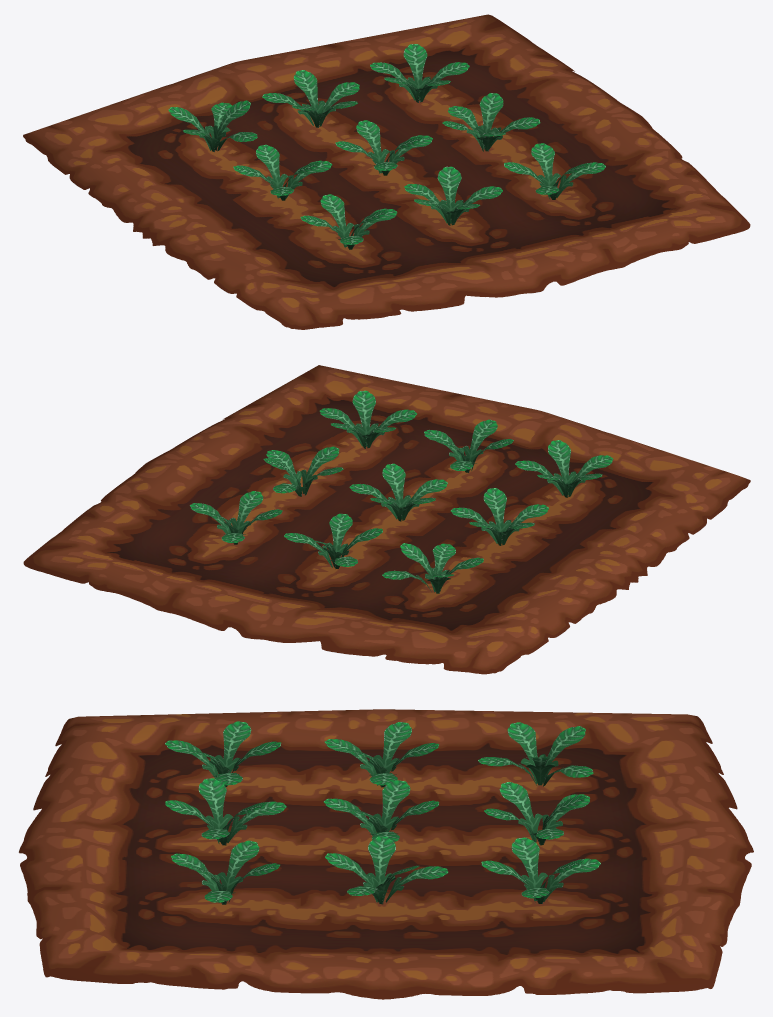
The model's file is Brocolli_Field_Lv1.FBX.
The picture shows the model from 3 angles, top to bottom: view 1: azimuth 30°, elevation 25°; view 2: azimuth 150°, elevation 25°; view 3: azimuth 270°, elevation 25°; orthographic projection. The views are drawn at different scales.
Parts seen in each view (by area): view 1: Brocolli_Field_Lv1; view 2: Brocolli_Field_Lv1; view 3: Brocolli_Field_Lv1.
Part boxes in pixels (box(x1,y1,x2,y2)): Brocolli_Field_Lv1: box(23, 14, 750, 329); Brocolli_Field_Lv1: box(23, 365, 750, 674); Brocolli_Field_Lv1: box(18, 709, 753, 999).
Size of the model in its own units: 274 by 24.54 by 296.
